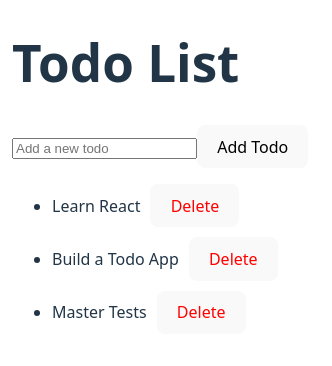
Scenario: allows users to add a new todo
Type "New Task" into the field with placeholder "Add a new todo" at (104, 148), box [12,138,197,159]
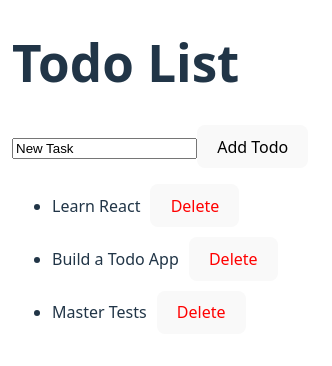
Click the button "Add Todo" at (253, 147), box [197,125,308,168]
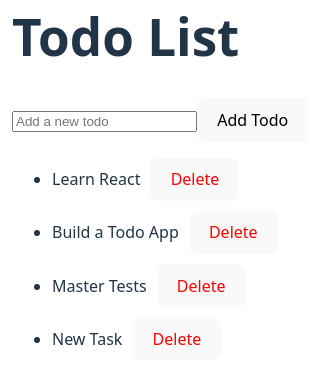
Expected: the button "New Task" is shown, [52,328,122,350]
